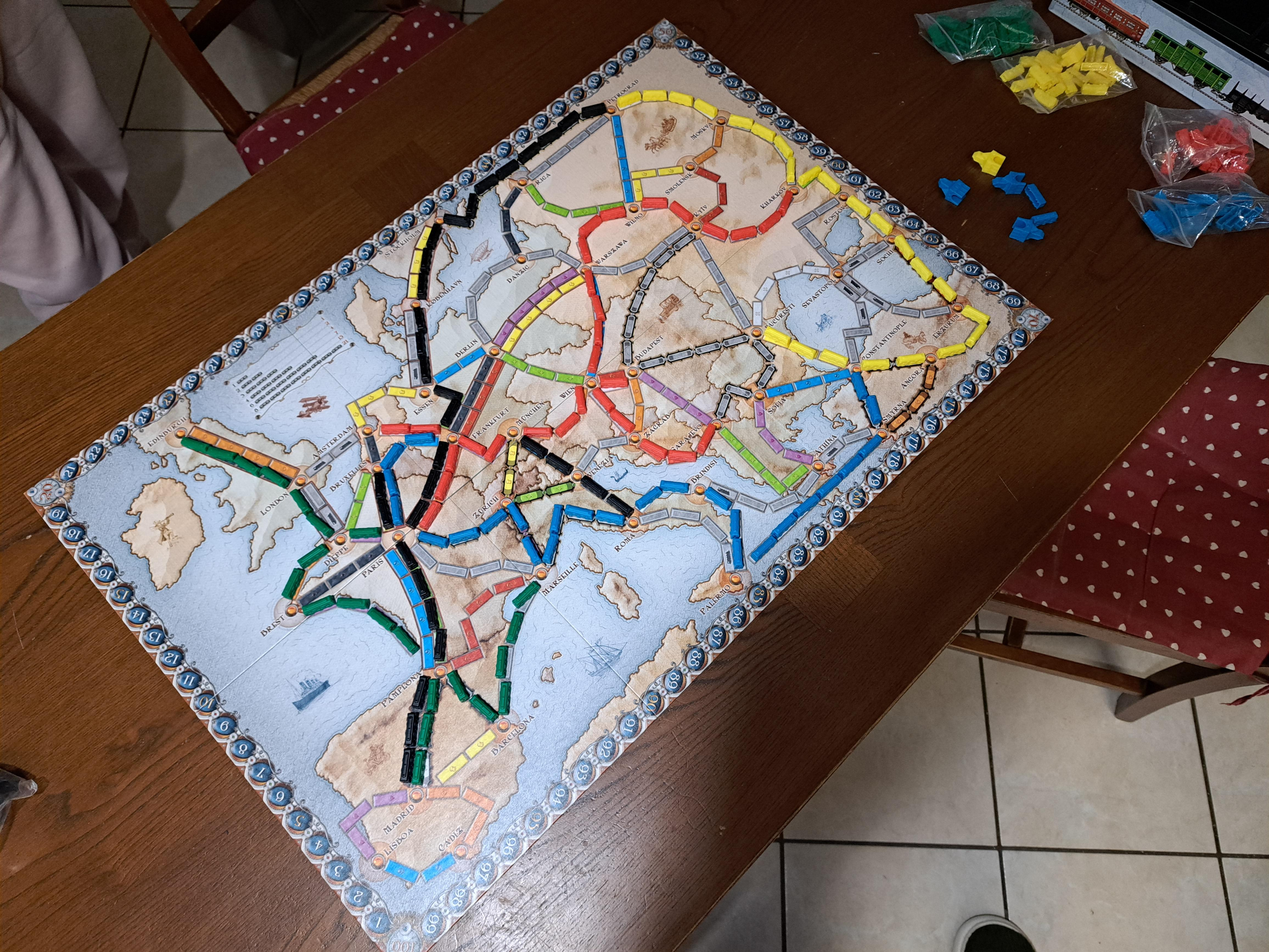corner_bl: (377, 919, 431, 952)
corner_br: (1012, 302, 1054, 336)
corner_tl: (24, 474, 68, 513)
corner_tr: (649, 18, 681, 46)
